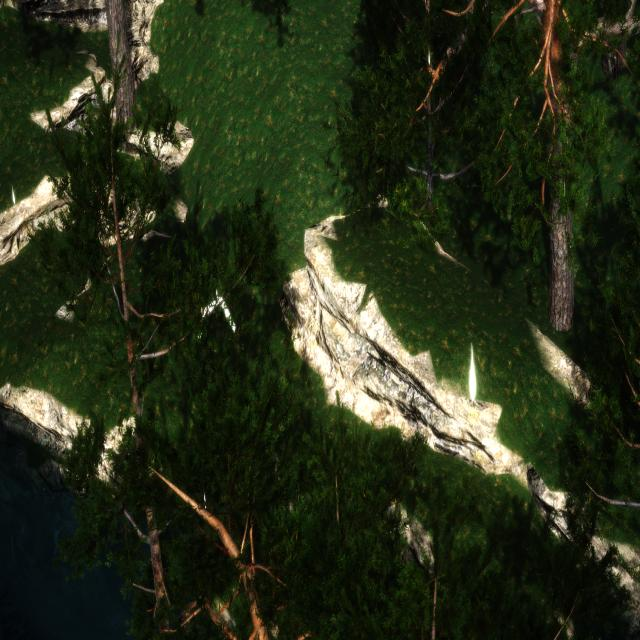Human: (196, 261, 242, 343)
